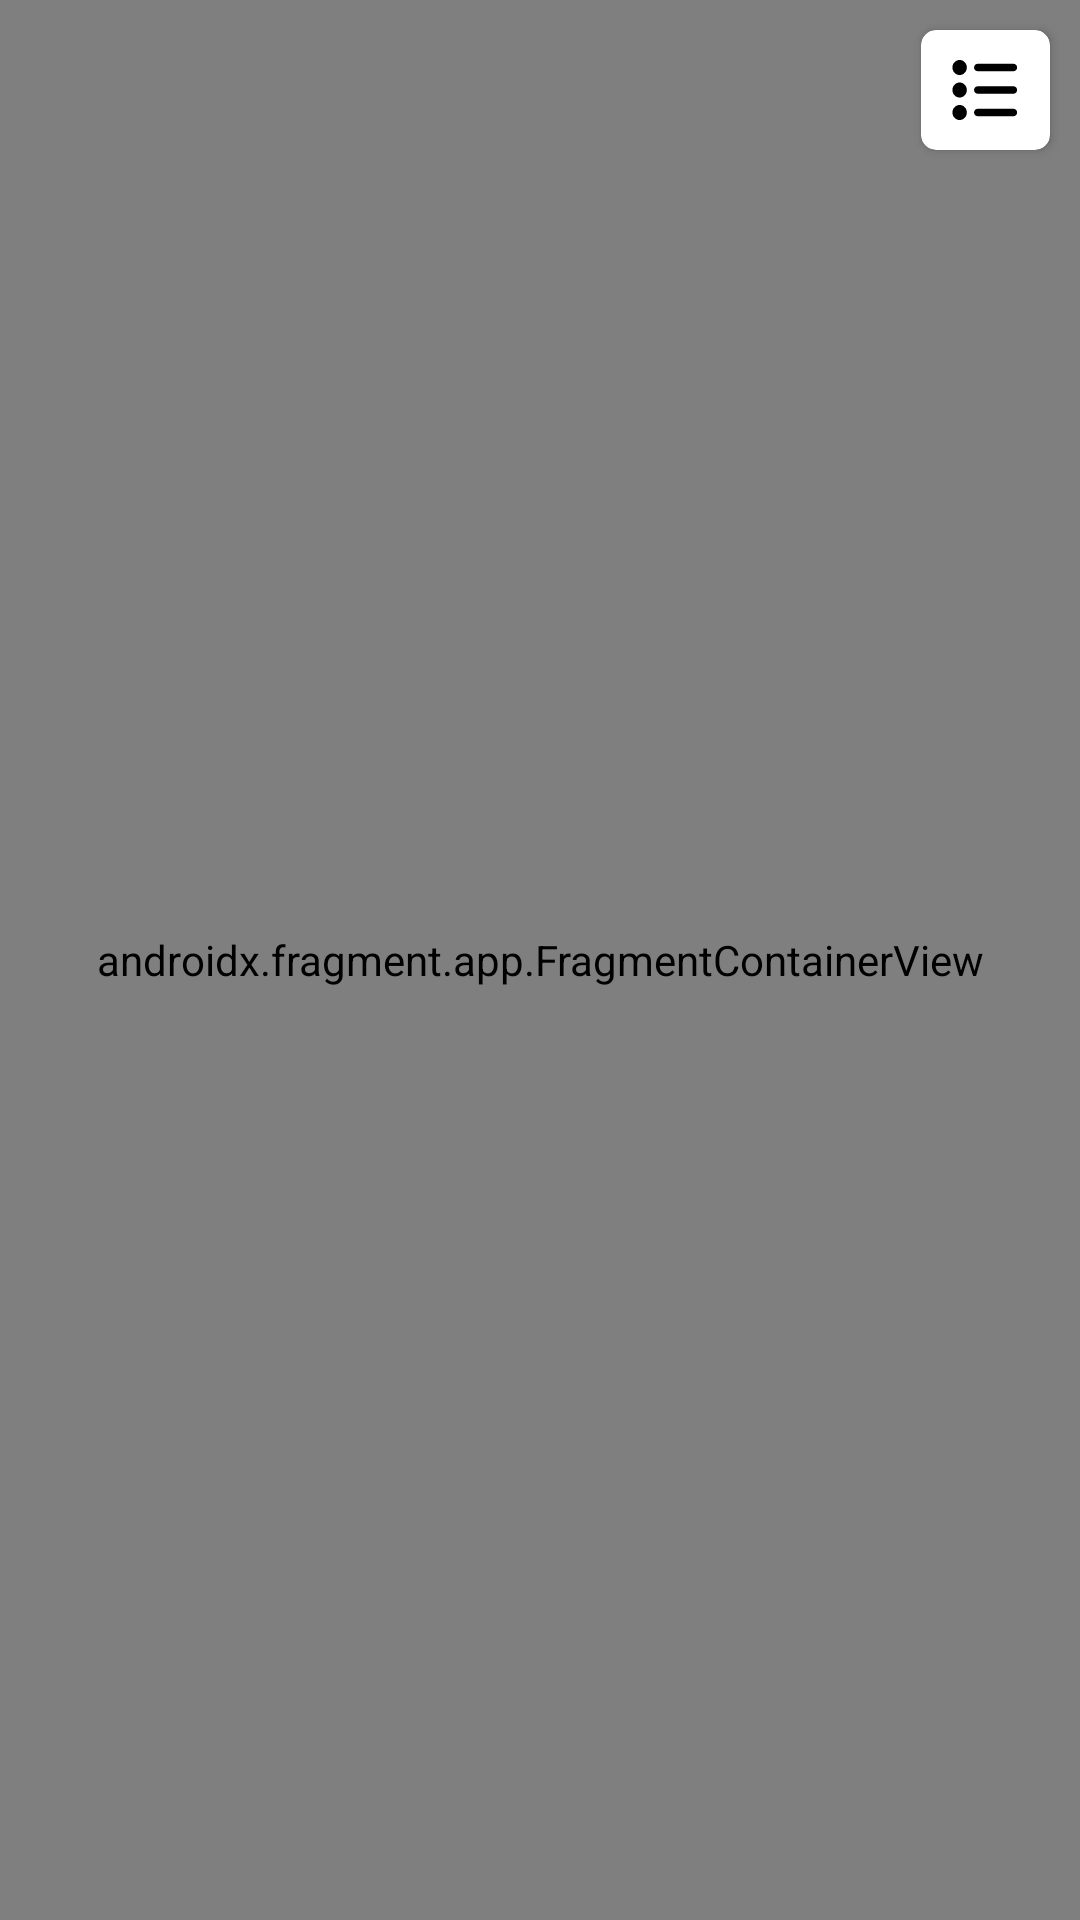

Icon bounding boxes for this 1080 x 1920 phone screenshot, format (x1, y1, x2, y2):
hamburger toolbar: (921, 30, 1050, 150)
